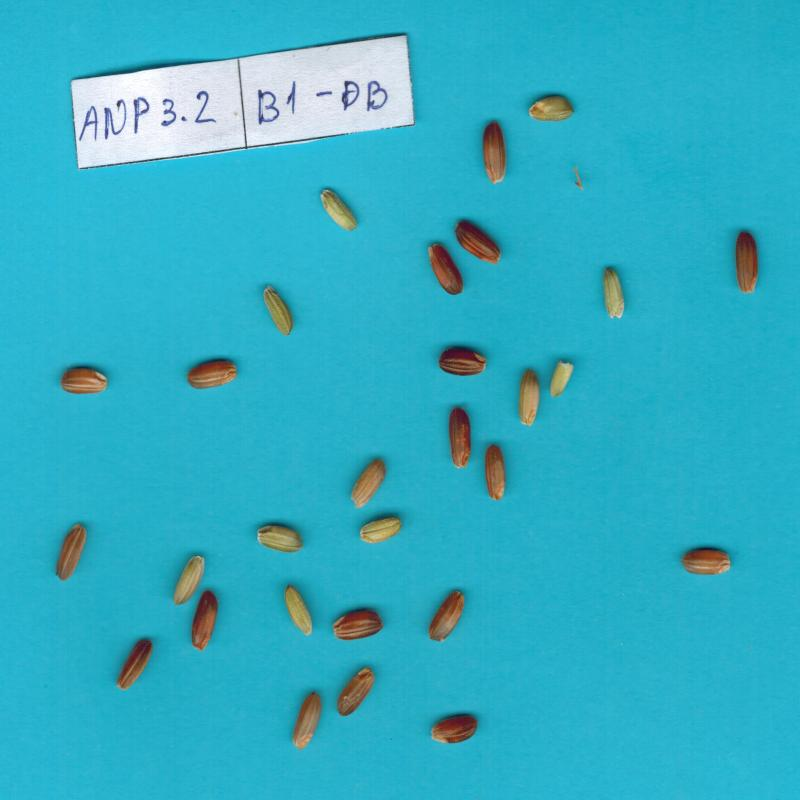Break: (550, 361, 574, 397)
Rice: (455, 221, 501, 264), (116, 640, 153, 690), (337, 668, 375, 716), (350, 459, 386, 509), (429, 591, 465, 641), (56, 524, 87, 582), (428, 244, 463, 295), (292, 692, 322, 750), (191, 590, 218, 652), (332, 610, 384, 640), (263, 285, 293, 336), (174, 556, 205, 605), (320, 190, 357, 231), (483, 121, 506, 185), (187, 361, 237, 390), (284, 585, 312, 636), (735, 232, 758, 293), (438, 348, 487, 376), (449, 407, 471, 468), (681, 549, 731, 575), (257, 525, 303, 553), (431, 716, 478, 743), (61, 368, 108, 394), (519, 369, 540, 426), (528, 96, 574, 121), (360, 517, 402, 544), (485, 445, 505, 501), (603, 268, 624, 319)
